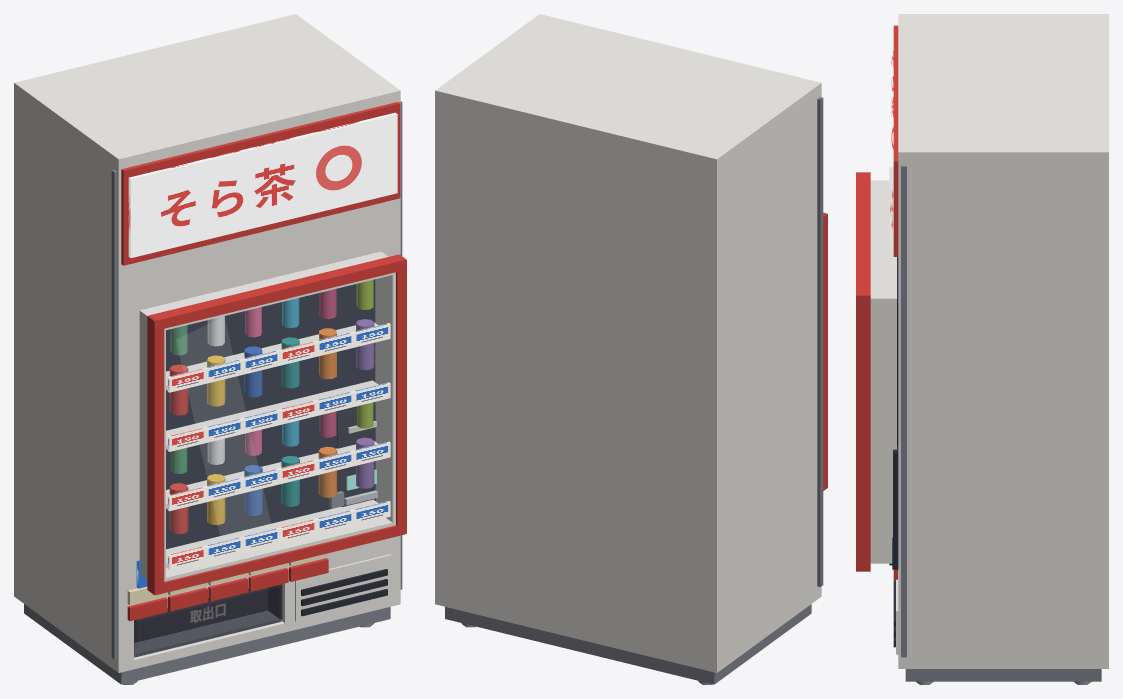
The model's file is sakura-crossing-sora-tea-vending-v1.glb.
3 views of the same model, side by side, from view 1: azimuth 30°, elevation 25°; view 2: azimuth 150°, elevation 25°; view 3: azimuth 270°, elevation 25° (orthographic).
Visible parts, largest first — view 1: Sakura Crossing Sora Tea Vending Machine, Beverage6, Beverage0, Beverage4, Beverage8, Beverage5, Beverage7, Beverage3, Beverage9, Beverage2, Beverage11, Beverage1 (+1 smaller); view 2: Sakura Crossing Sora Tea Vending Machine; view 3: Sakura Crossing Sora Tea Vending Machine.
Part boxes in pixels (x1,y1,x2,y2): Sakura Crossing Sora Tea Vending Machine: [14, 14, 406, 684]; Beverage6: [169, 364, 188, 415]; Beverage0: [169, 483, 188, 534]; Beverage4: [318, 446, 337, 497]; Beverage8: [244, 346, 262, 397]; Beverage5: [356, 437, 374, 488]; Beverage7: [207, 355, 225, 406]; Beverage3: [281, 455, 299, 506]; Beverage9: [281, 337, 299, 388]; Beverage2: [244, 465, 262, 515]; Beverage11: [356, 319, 374, 370]; Beverage1: [207, 474, 225, 525]; Sakura Crossing Sora Tea Vending Machine: [435, 14, 827, 684]; Sakura Crossing Sora Tea Vending Machine: [856, 14, 1108, 684].
Size of the model in its own units: 1.14 by 2.04 by 0.865.
Materials: 49 (8 with a texture image).
